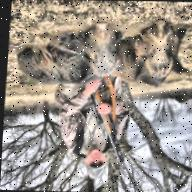boar: (25, 9, 125, 101), (110, 13, 192, 96)
